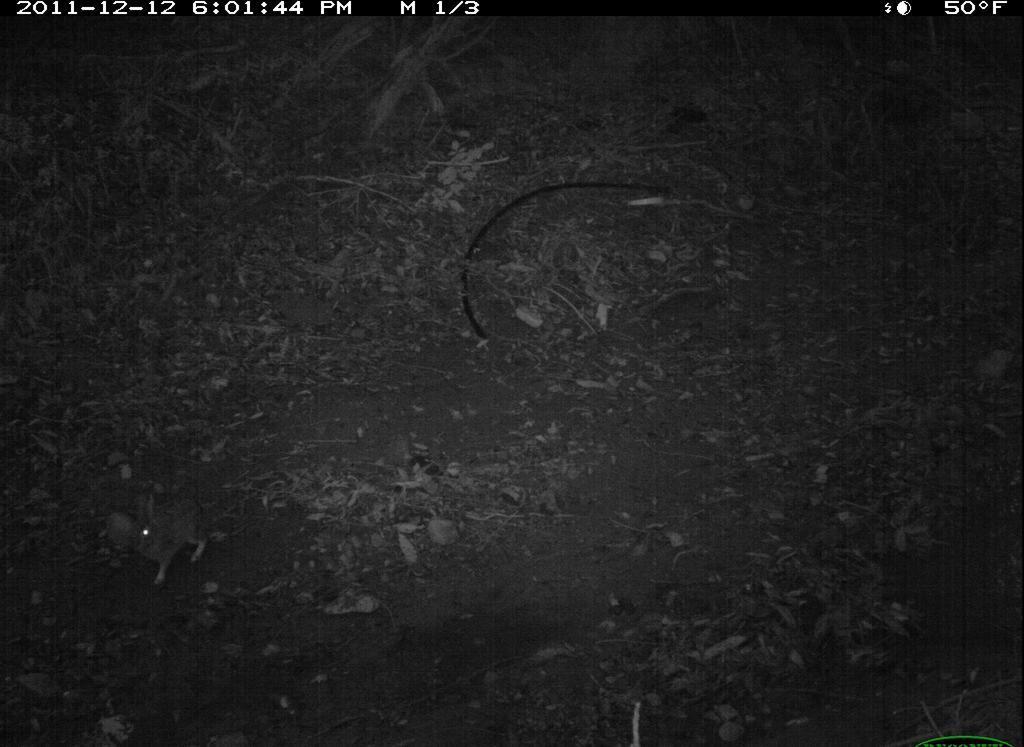rabbit: (113, 486, 232, 589)
